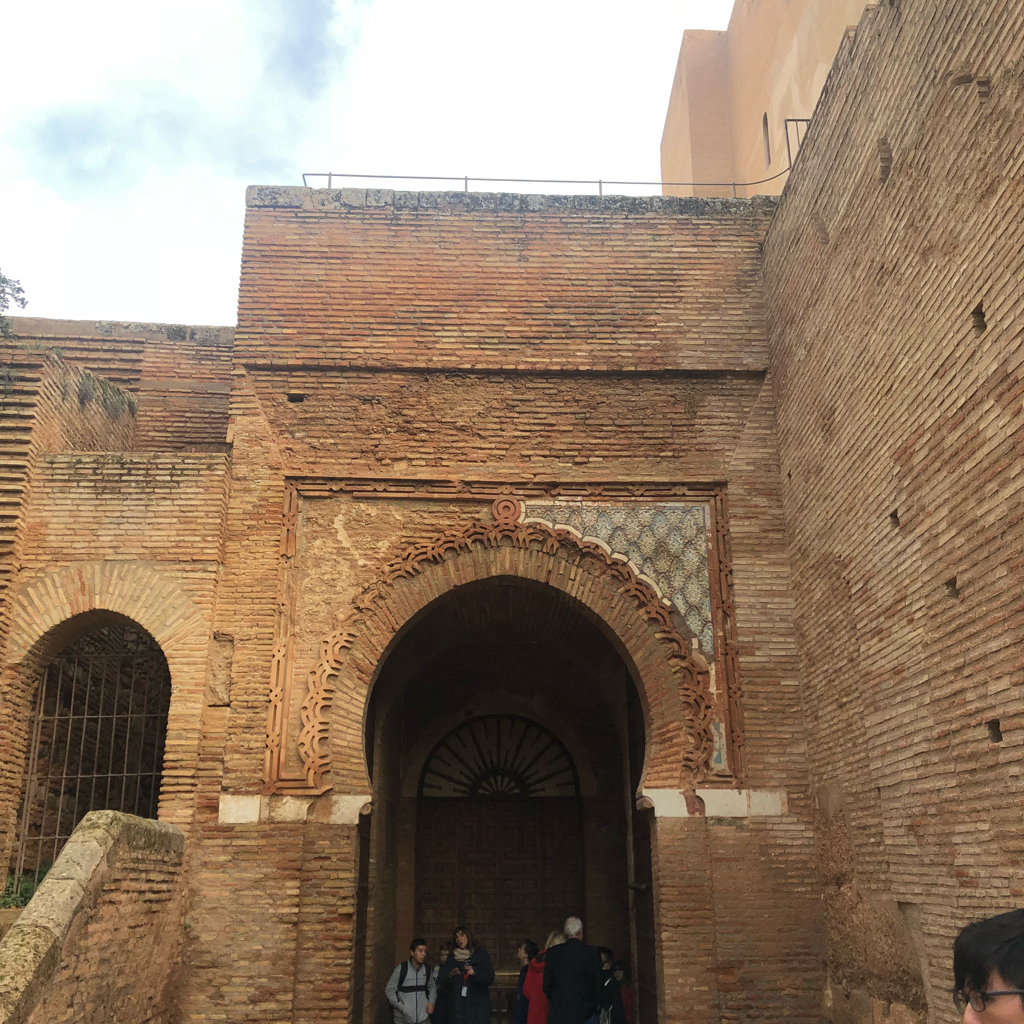arco-herradura: (349, 556, 671, 839)
arco-medio-punto: (14, 604, 185, 717)
